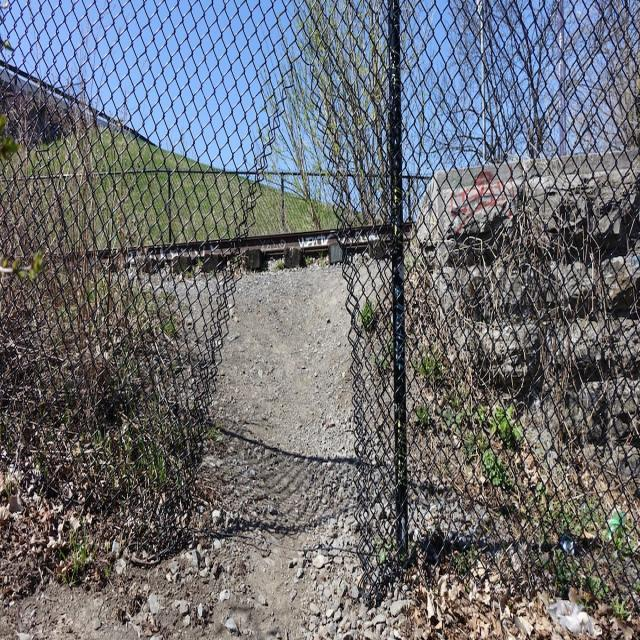fence line: (185, 95, 377, 547)
